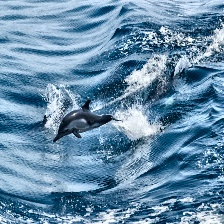dolphin: (52, 99, 123, 143), (53, 99, 123, 143)
